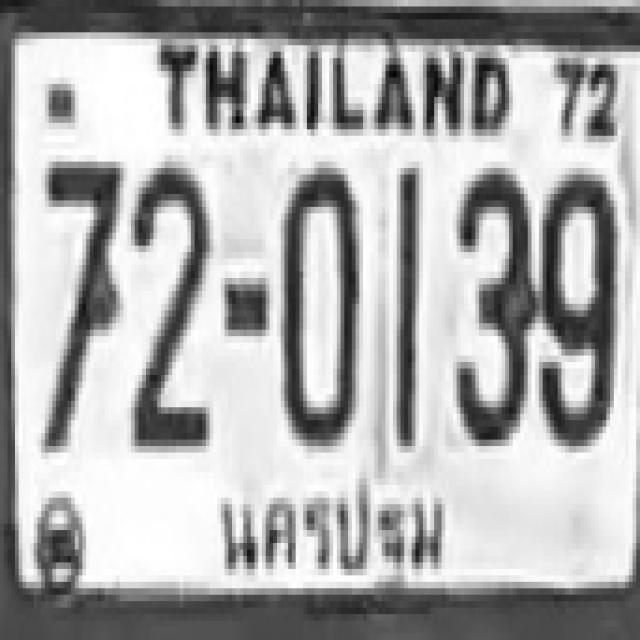0: (280, 162, 356, 440)
1: (393, 162, 415, 440)
2: (127, 155, 206, 446)
3: (453, 158, 535, 436)
7: (37, 155, 120, 446)
9: (535, 165, 614, 436)
NPT: (210, 472, 466, 594)
